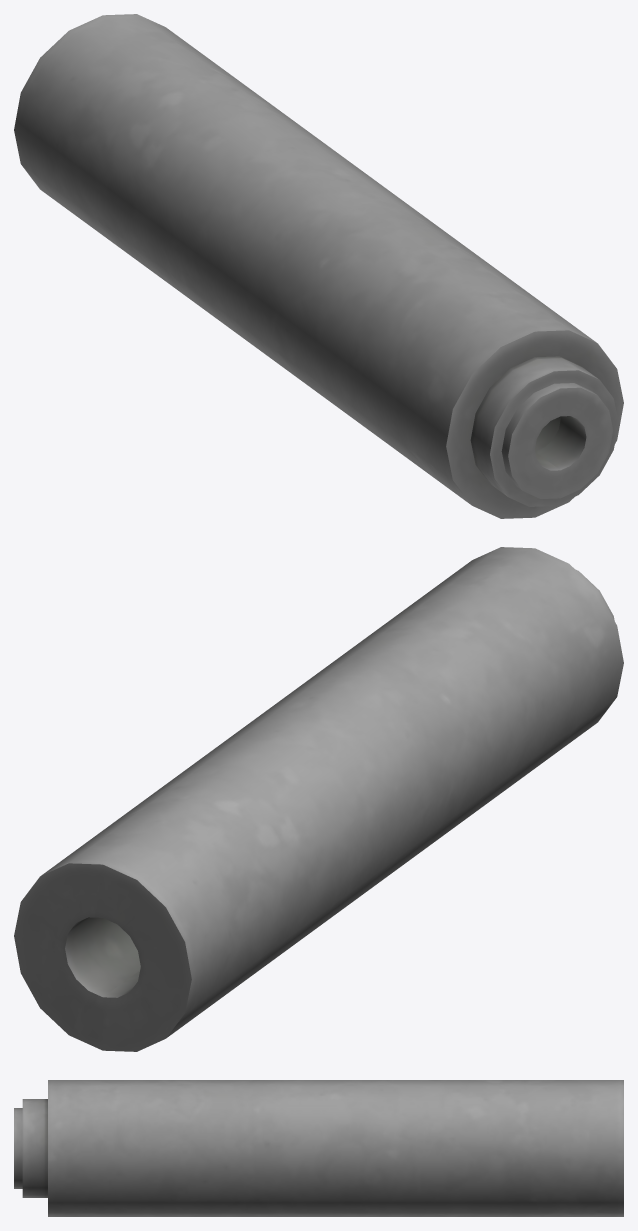
Rendered from IG_Acc_Muzzle_SMG_SIL_1.fbx.
3 views of the same model, one above another, from view 1: azimuth 30°, elevation 25°; view 2: azimuth 150°, elevation 25°; view 3: azimuth 270°, elevation 25° (orthographic). The views are drawn at different scales.
Parts seen in each view (by area): view 1: Muzzle_SMG_SIL_1; view 2: Muzzle_SMG_SIL_1; view 3: Muzzle_SMG_SIL_1.
Part boxes in pixels (x1,y1,x2,y2): Muzzle_SMG_SIL_1: (14,14,623,518); Muzzle_SMG_SIL_1: (14,547,623,1051); Muzzle_SMG_SIL_1: (14,1080,623,1216).
Size of the model in its own units: 0.0717 by 0.0717 by 0.3197.
